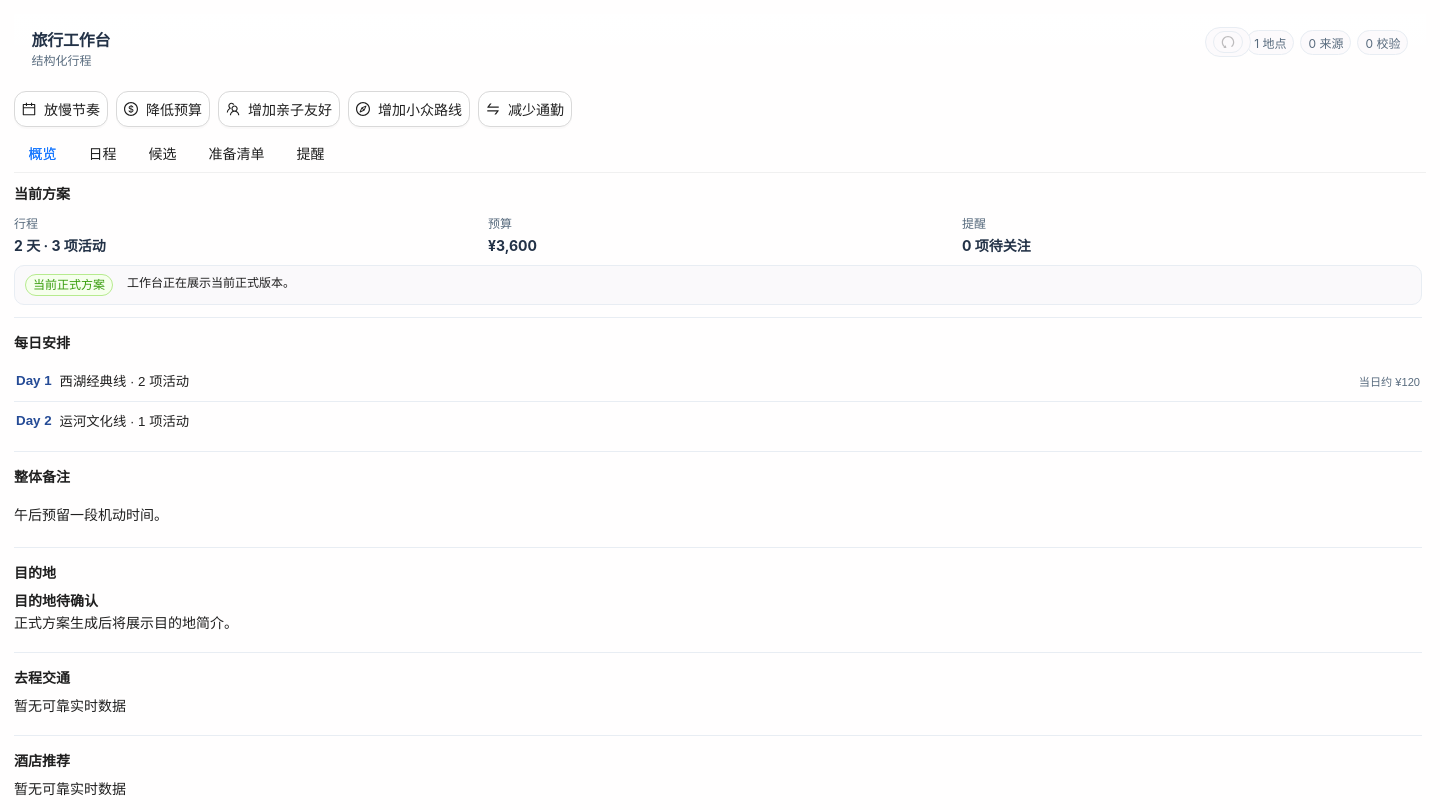
Test: TripWorkspace › summarizes the formal plan and opens the selected day from overview
Check: the text "2 天 · 3 项活动" is shown, box x1=14 y1=237 x2=106 y2=254
Check: the text "当前正式方案" is shown, box x1=25 y1=274 x2=113 y2=296
Click the button with aria-label "查看 Day 2 日程": [93, 422] box x1=14 y1=402 x2=1422 y2=439
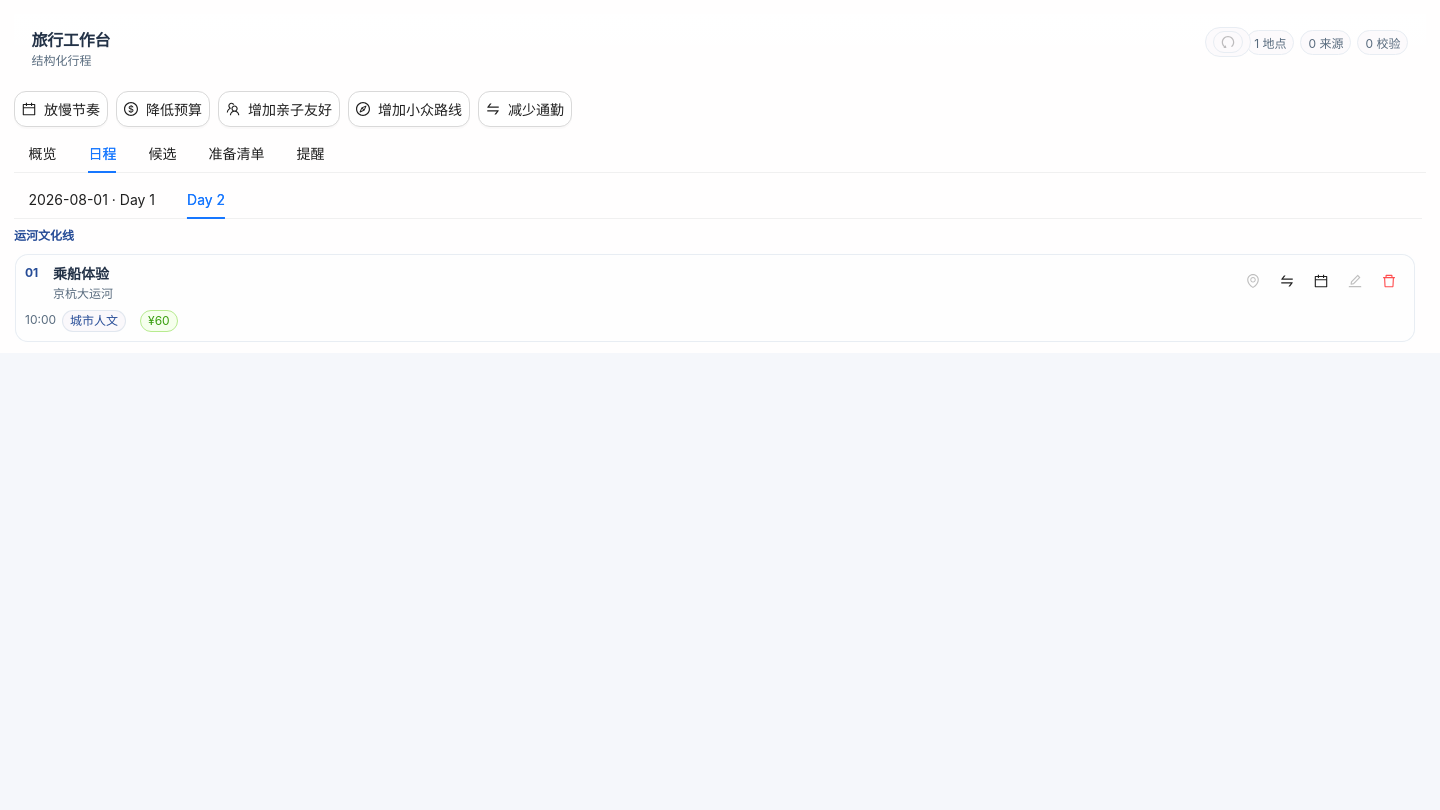
Check: the element named "Day 2 行程" is shown, box x1=14 y1=227 x2=1418 y2=342
Check: the text "京杭大运河" is shown, box x1=53 y1=286 x2=113 y2=302
